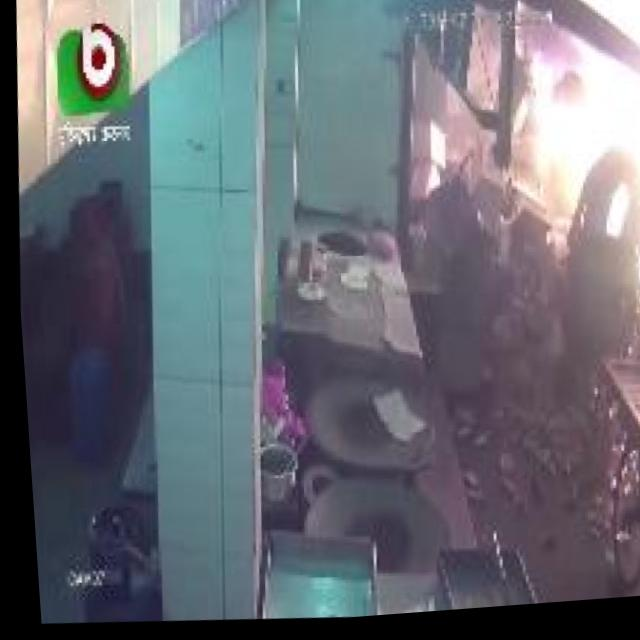fire: (503, 0, 640, 351)
